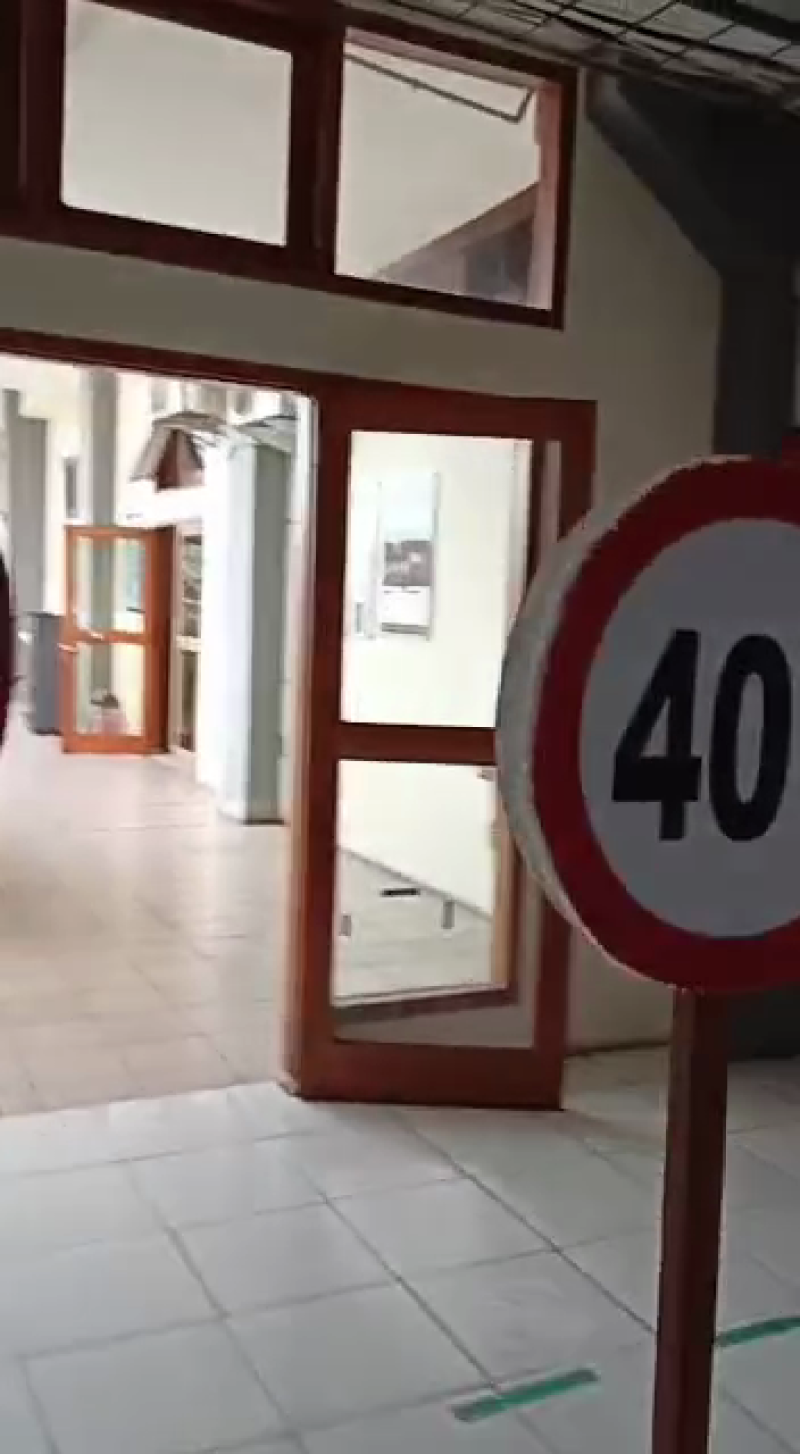batas maksimal 40kmperjam: (509, 409, 800, 996)
